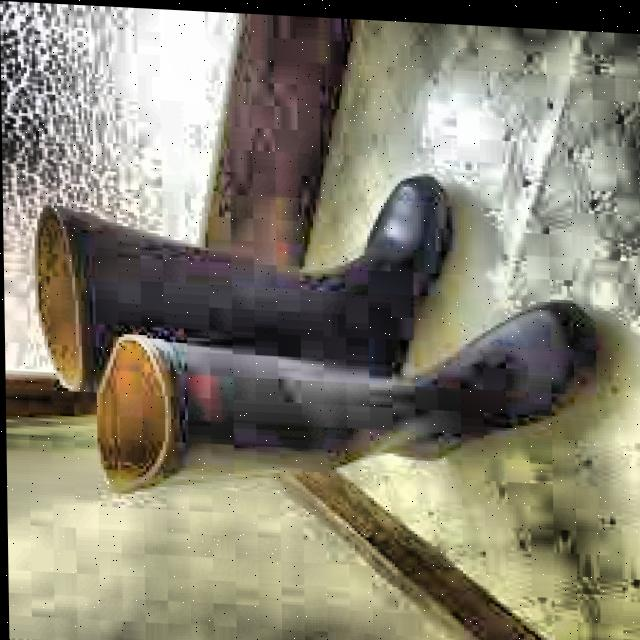shoes: (22, 121, 618, 571)
